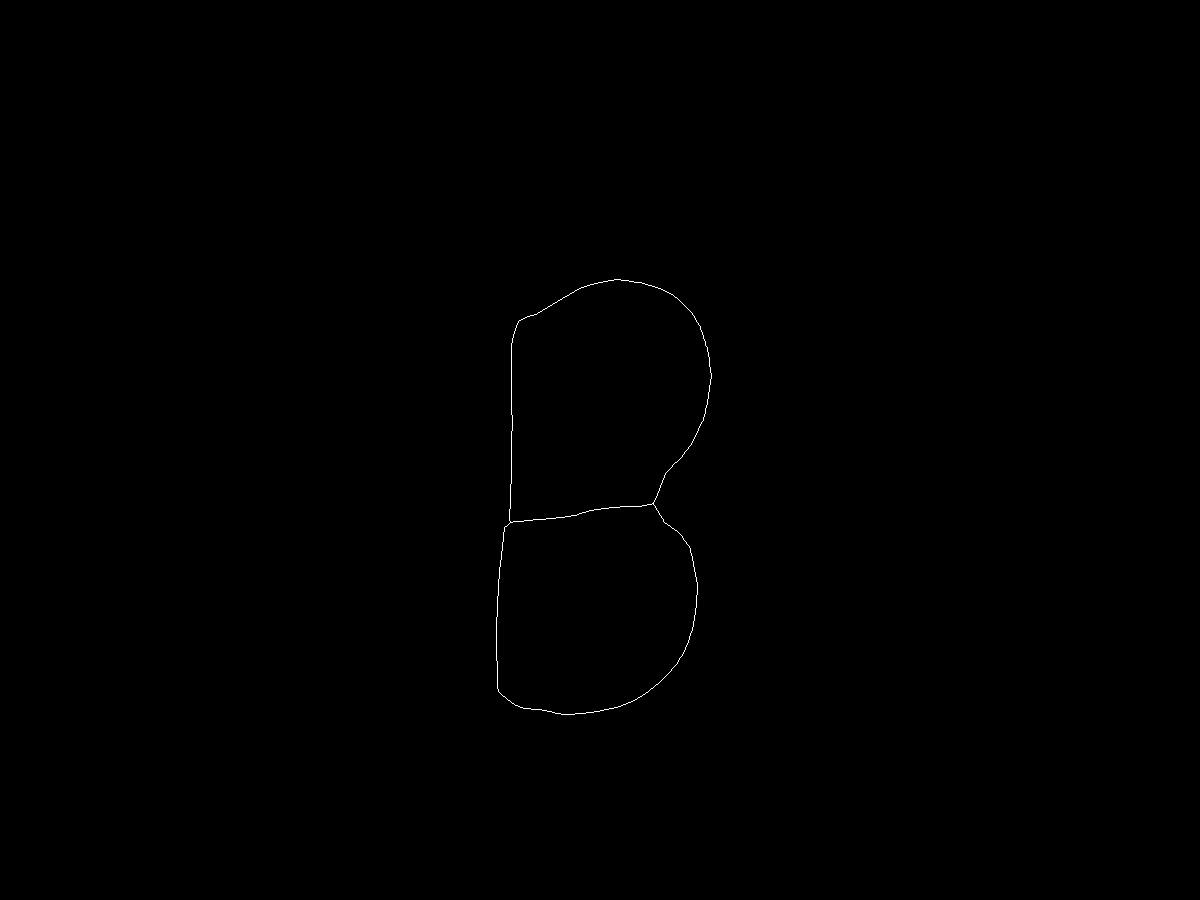dian1: (503, 313, 526, 336)
dian2: (502, 513, 519, 530)
dian3: (489, 681, 509, 701)
dian4: (648, 498, 666, 516)
